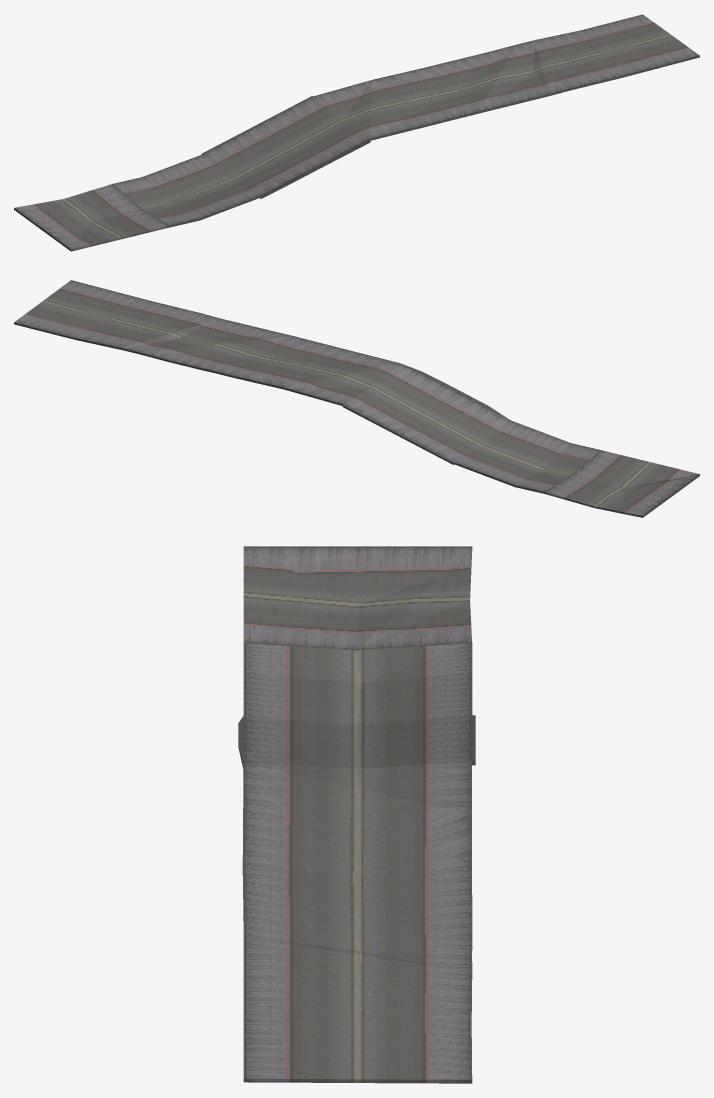
Rendered from lodroadssfse20.obj.
The picture shows the model from 3 angles, top to bottom: view 1: azimuth 30°, elevation 25°; view 2: azimuth 150°, elevation 25°; view 3: azimuth 270°, elevation 25°; orthographic projection. The views are drawn at different scales.
Parts seen in each view (by area): view 1: LODroadsSFSE20; view 2: LODroadsSFSE20; view 3: LODroadsSFSE20.
Part boxes in pixels (x1,y1,x2,y2): LODroadsSFSE20: [14, 14, 699, 251]; LODroadsSFSE20: [14, 280, 699, 517]; LODroadsSFSE20: [238, 546, 475, 1083].
Bounding box in the file's own units: 159 × 11.2 × 25.96.
Materials: 1 (1 with a texture image).
